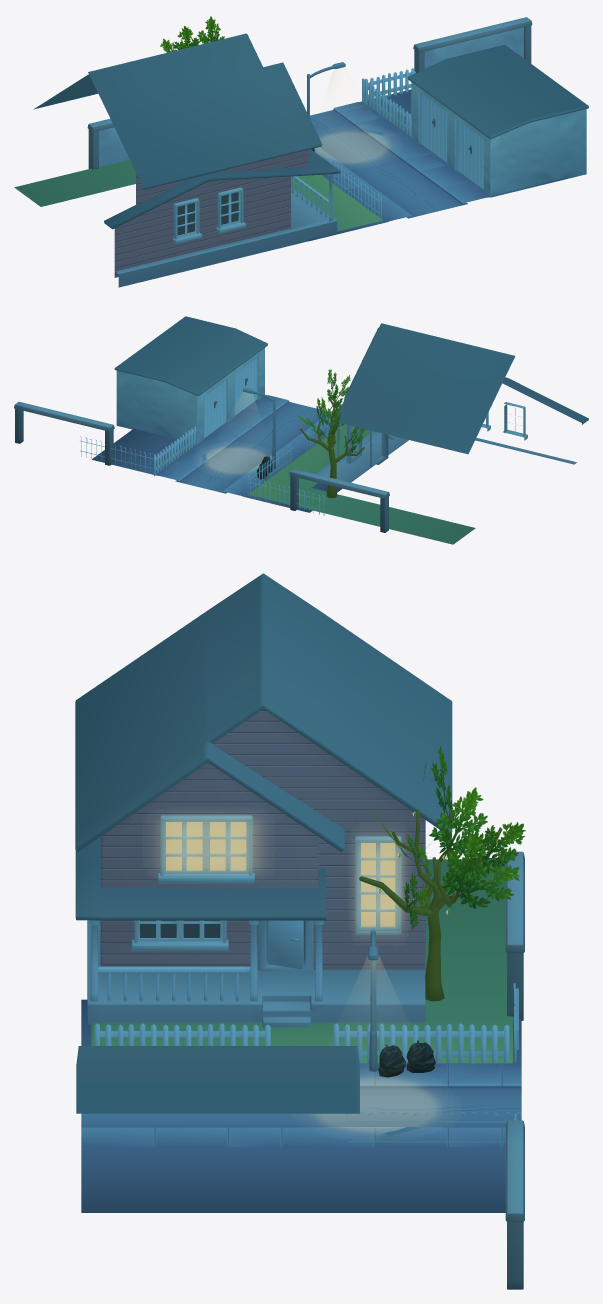
Rendered from SuburbsHouse02.prefab.glb.
3 renders of one model, top to bottom at view 1: azimuth 30°, elevation 25°; view 2: azimuth 150°, elevation 25°; view 3: azimuth 270°, elevation 25°, orthographic. The views are drawn at different scales.
Visible parts, largest first — view 1: House, Garage05, SuburbsHouse02, Road02, PlasteredWall01 (2), LightPool, PlasteredWall01 (1), WoodFence02 (3), Tree01, WoodFence02 (7), WoodFence02 (1); view 2: House, Garage05, Road02, SuburbsHouse02, Tree01, PlasteredWall01 (1), PlasteredWall01 (2), LightPool, WoodFence02 (3), WoodFence02, WoodFence02 (6), WoodFence02 (7) (+1 smaller); view 3: House, Road02, SuburbsHouse02, Garage05, Tree01, LightGlowPlane, LightGlowPlane (1), LightPool, WoodFence02, PlasteredWall01 (2), PlasteredWall01 (1), WoodFence02 (1) (+1 smaller).
Boxes of the visible parts, x1,y1,x2,y2 form: House: (14,33,382,287); Garage05: (407,45,588,197); SuburbsHouse02: (307,149,566,241); Road02: (310,89,427,169); PlasteredWall01 (2): (413,17,532,72); LightPool: (315,131,389,163); PlasteredWall01 (1): (87,119,129,169); WoodFence02 (3): (362,78,411,136); Tree01: (160,16,224,52); WoodFence02 (7): (364,68,415,101); WoodFence02 (1): (330,159,381,219); House: (247,323,588,544); Garage05: (114,316,267,444); Road02: (92,428,363,512); SuburbsHouse02: (209,394,408,472); Tree01: (296,369,374,498); PlasteredWall01 (1): (289,469,389,532); PlasteredWall01 (2): (14,401,114,465); LightPool: (205,446,267,474); WoodFence02 (3): (153,426,196,475); WoodFence02: (247,443,292,494); WoodFence02 (6): (248,478,324,515); WoodFence02 (7): (80,436,155,472); House: (75,573,512,1063); Road02: (301,1018,521,1212); SuburbsHouse02: (81,999,301,1212); Garage05: (76,1046,359,1113); Tree01: (359,745,525,1001); LightGlowPlane: (156,814,262,875); LightGlowPlane (1): (354,834,405,933); LightPool: (312,1076,440,1132); WoodFence02: (333,1023,509,1063); PlasteredWall01 (2): (505,1120,524,1289); PlasteredWall01 (1): (505,851,524,1020); WoodFence02 (1): (94,1023,270,1045).
Bounding box in the file's own units: 43.74 × 13.22 × 18.49.
Materials: 8 (7 with a texture image).
